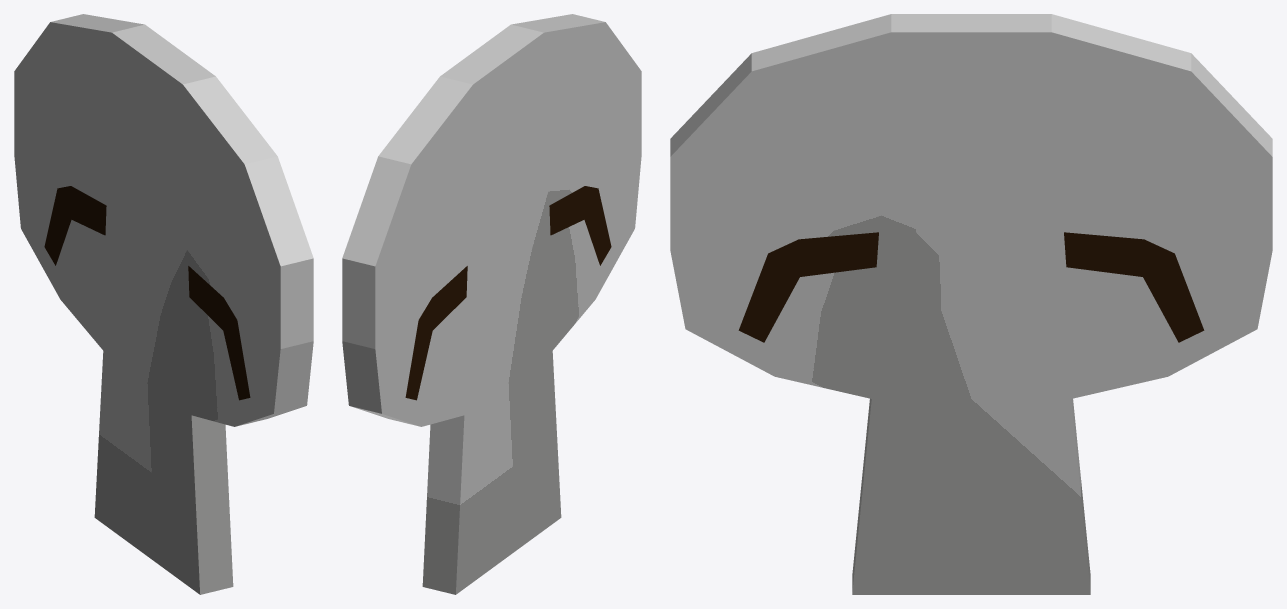
Rendered from mushroom06.obj.
3 renders of one model, left to right at view 1: azimuth 30°, elevation 25°; view 2: azimuth 150°, elevation 25°; view 3: azimuth 270°, elevation 25°, orthographic. The views are drawn at different scales.
Visible parts, largest first — view 1: Cylinder; view 2: Cylinder; view 3: Cylinder.
Boxes of the visible parts, <box> form: Cylinder: <box>14,14,313,594</box>; Cylinder: <box>342,14,641,594</box>; Cylinder: <box>670,14,1272,594</box>.
Bounding box in the file's own units: 0.00248 × 0.0356 × 0.0346.
Materials: 1 (1 with a texture image).
